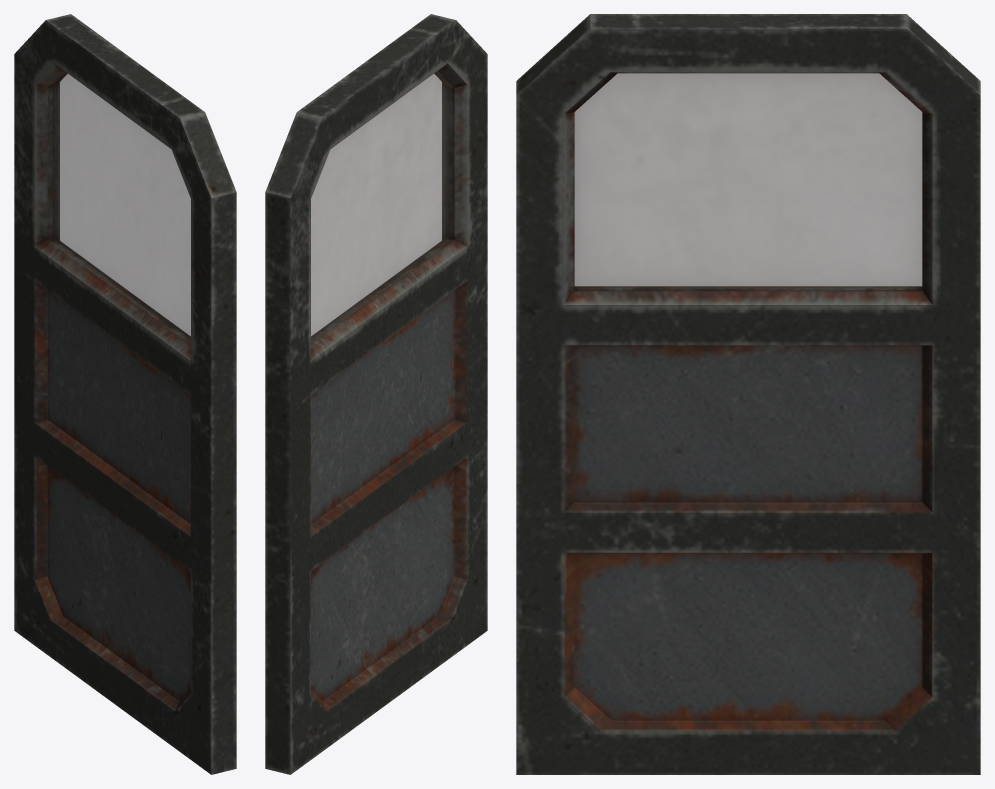
Rendered from Door_02.FBX.
3 views of the same model, side by side, from view 1: azimuth 30°, elevation 25°; view 2: azimuth 150°, elevation 25°; view 3: azimuth 270°, elevation 25° (orthographic). The views are drawn at different scales.
Visible parts, largest first — view 1: Door_02; view 2: Door_02; view 3: Door_02.
Boxes of the visible parts, left/top/right/bottom form: Door_02: left=14, top=14, right=236, bottom=774; Door_02: left=265, top=14, right=487, bottom=774; Door_02: left=516, top=14, right=980, bottom=774.
Size of the model in its own units: 3.65 by 87.6 by 49.4.
2 materials, 2 textured.
